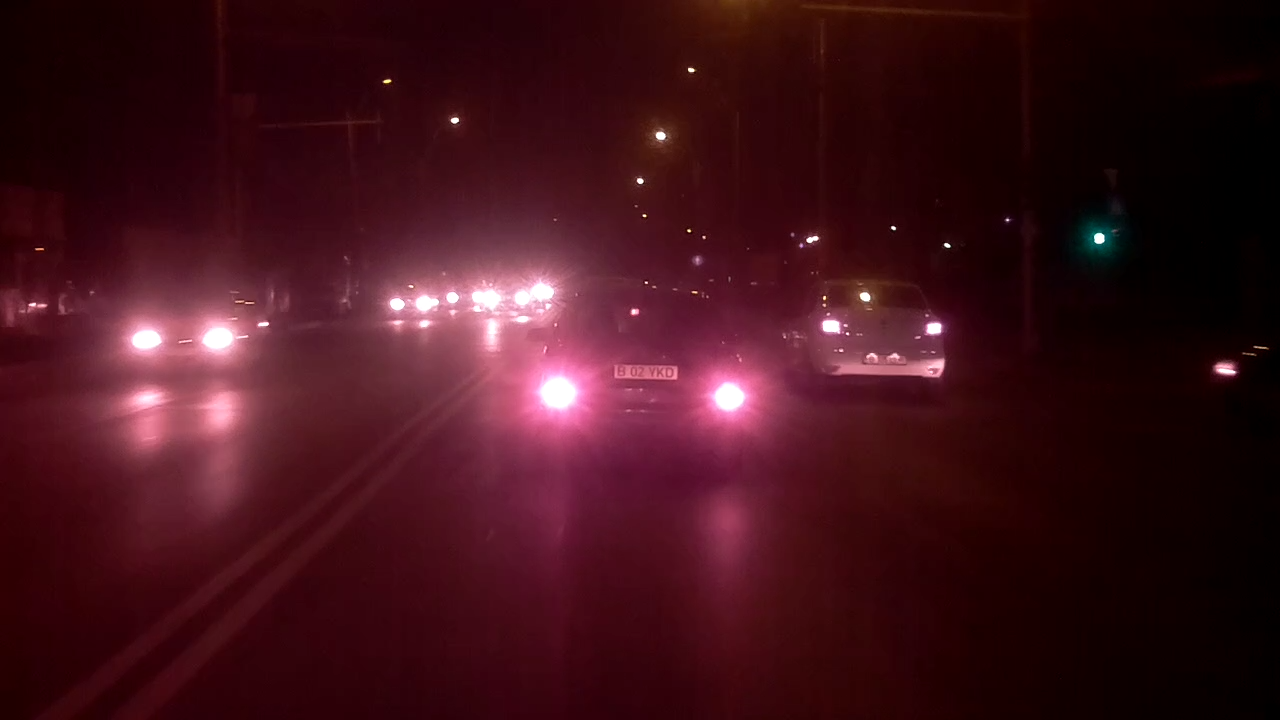license-plate: (606, 360, 682, 383)
